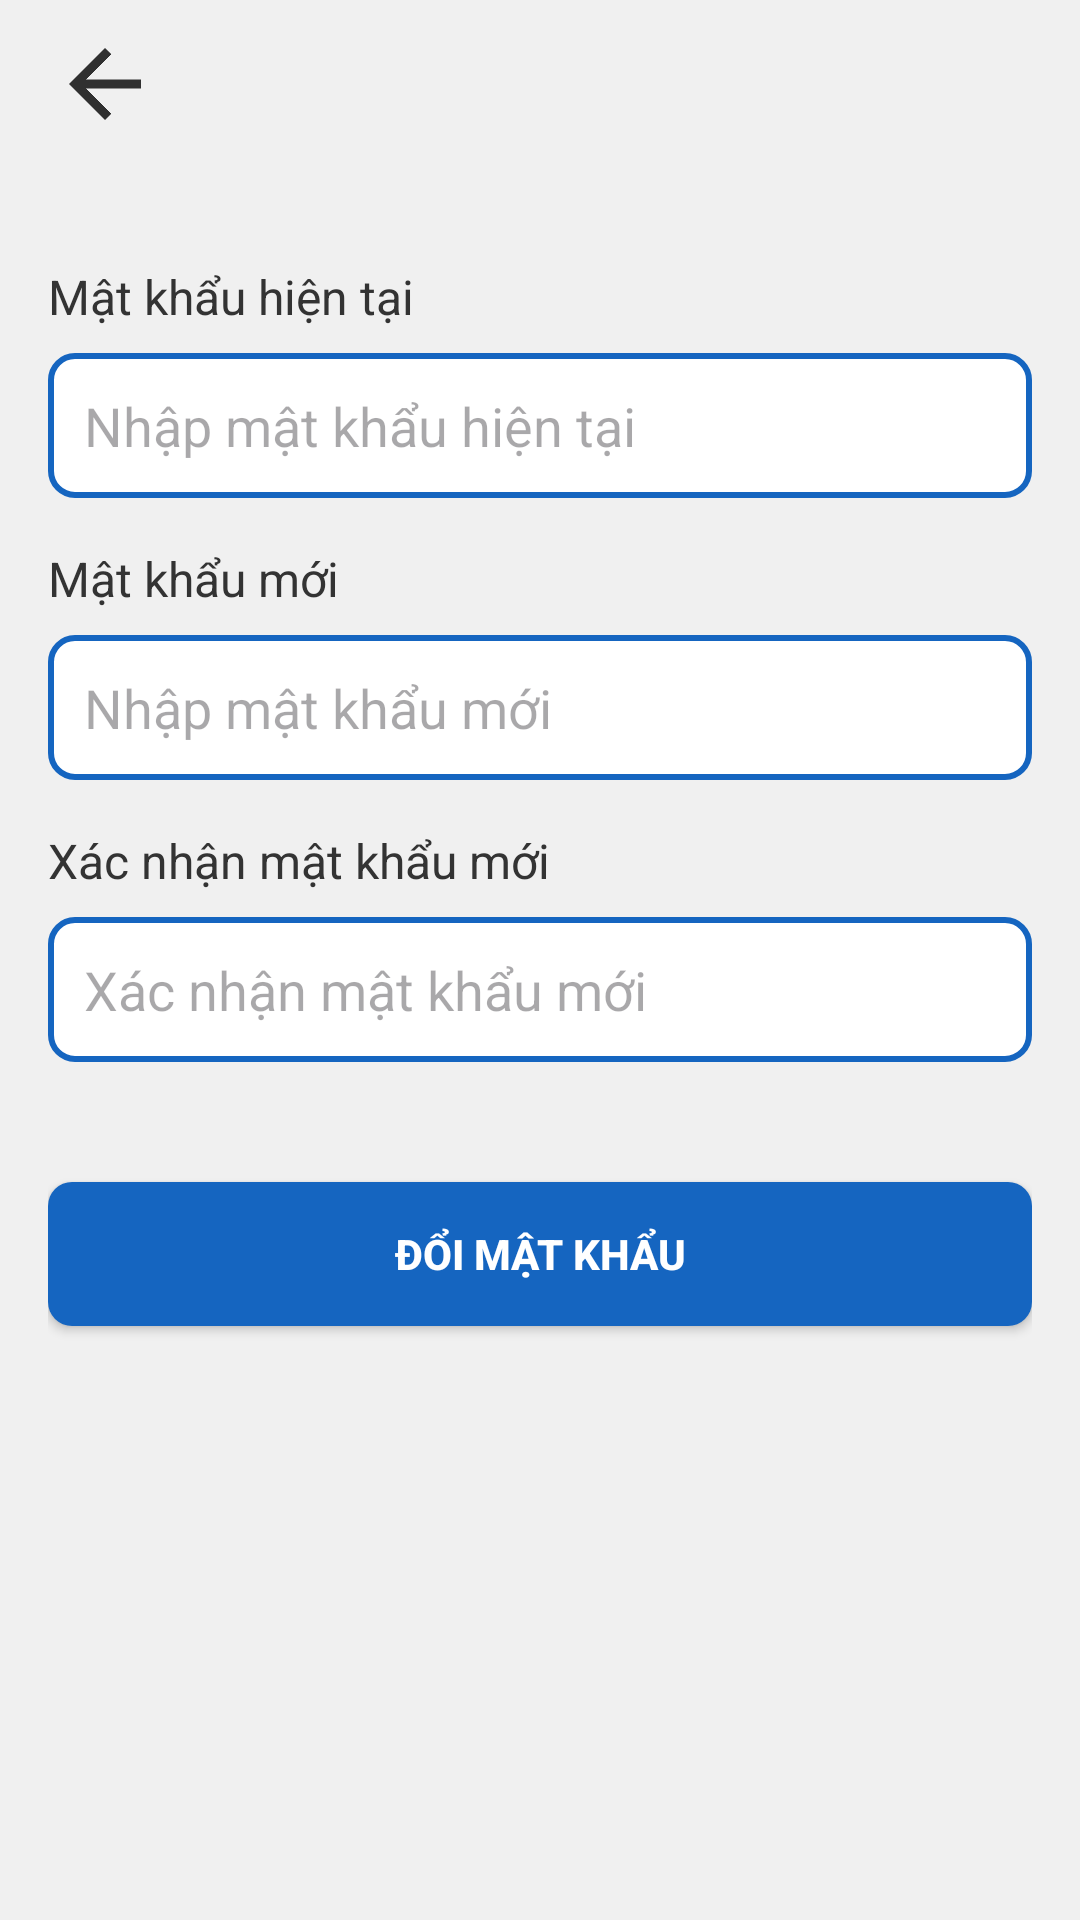

Icons on this 1080px x 1920px Android screen, each with its box as (x1, y1, x2, y2):
arrowback: (69, 48, 141, 120)
